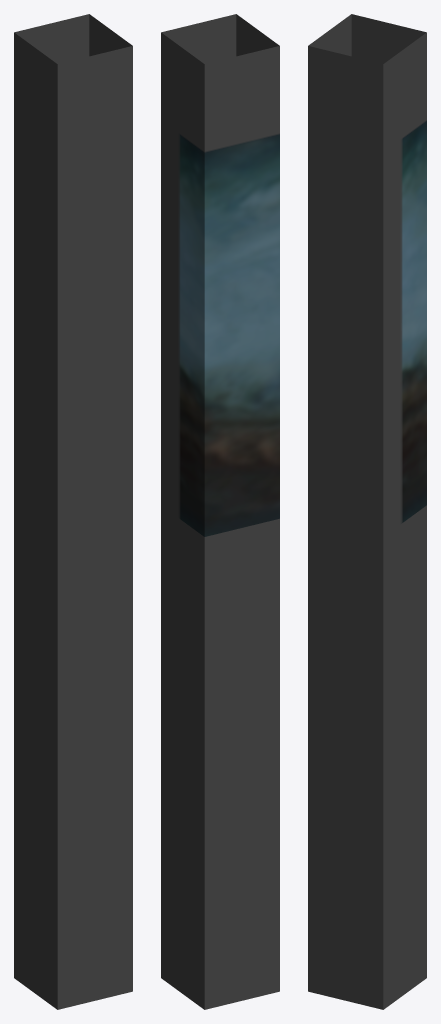
File: Pilar_High_0_5x0_5.fbx
3 views of the same model, side by side, from view 1: azimuth 30°, elevation 25°; view 2: azimuth 210°, elevation 25°; view 3: azimuth 330°, elevation 25° (orthographic).
Visible parts, largest first — view 1: Pilar_High_0_5x0_5; view 2: Pilar_High_0_5x0_5; view 3: Pilar_High_0_5x0_5.
Boxes of the visible parts, left/top/right/bottom form: Pilar_High_0_5x0_5: left=14, top=14, right=132, bottom=1009; Pilar_High_0_5x0_5: left=161, top=14, right=279, bottom=1009; Pilar_High_0_5x0_5: left=308, top=14, right=426, bottom=1009.
Bounding box in the file's own units: 50 × 600 × 50.
